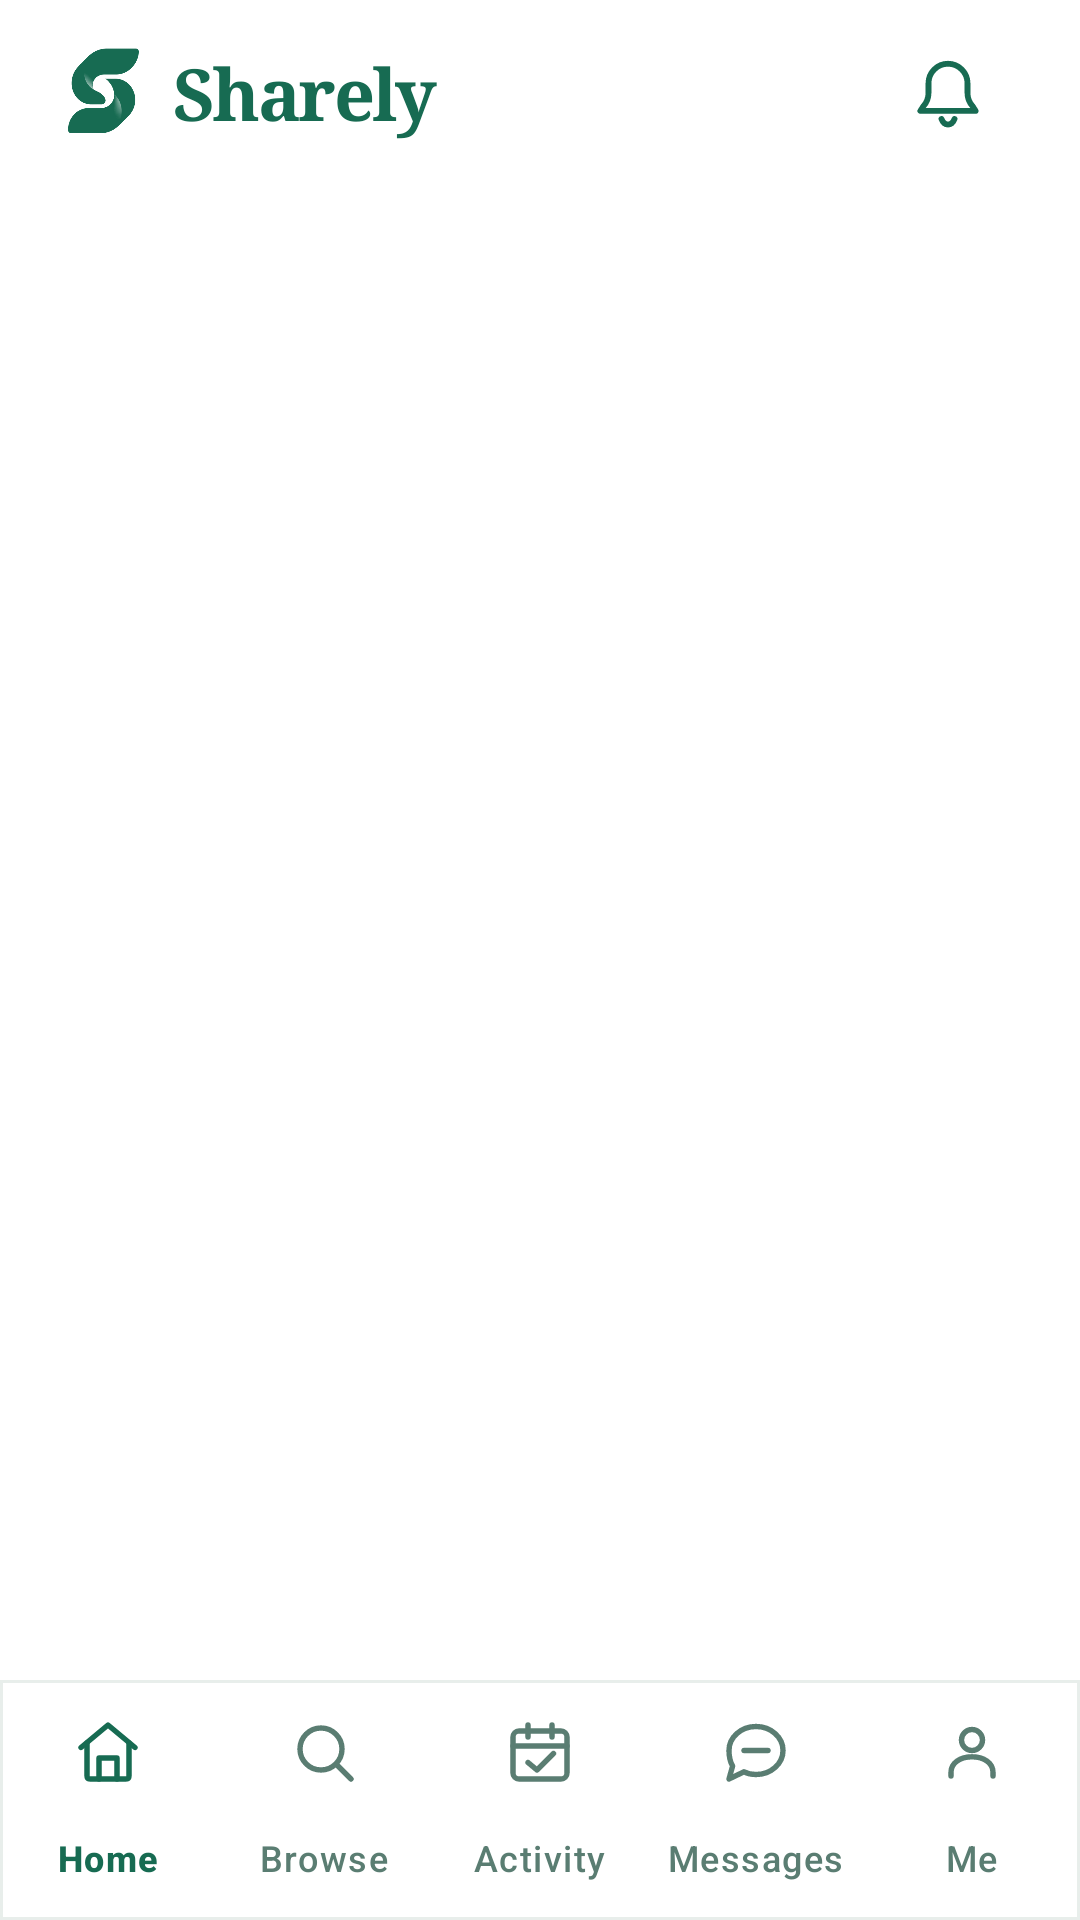

Screen size 1080×1920. Icon name, then its box in pixels as (x1, y1, x2, y2):
Notifications: (917, 60, 979, 128)
